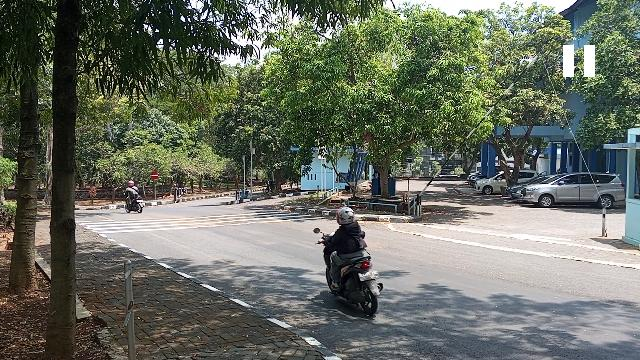helm: (338, 207, 357, 226)
motor: (314, 227, 386, 319)
